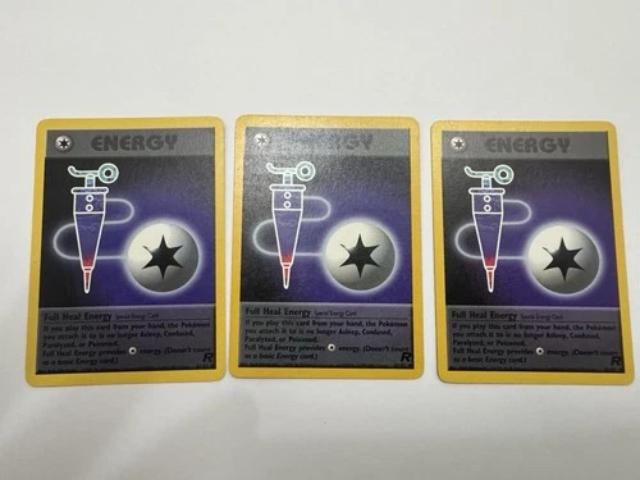Card: (20, 111, 231, 391), (425, 116, 638, 389), (226, 111, 430, 383)
Name: (37, 305, 117, 325), (239, 301, 316, 321), (445, 304, 522, 324)
